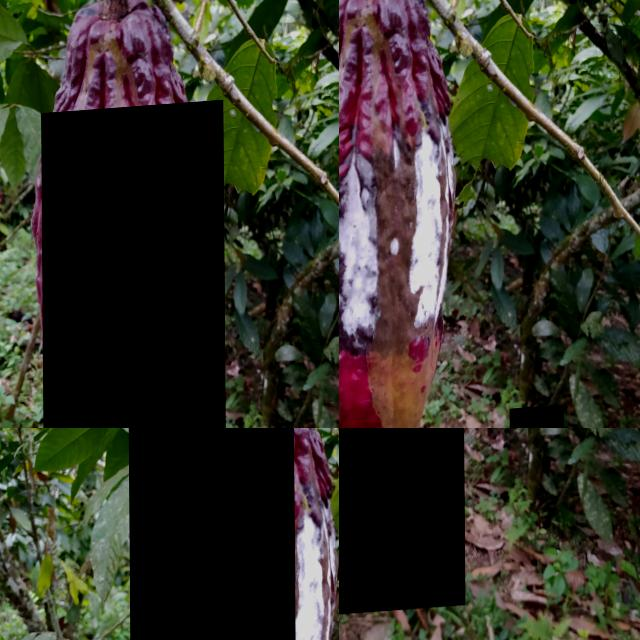Monilia: (339, 428, 464, 619)
Sana: (40, 105, 225, 428), (128, 428, 295, 640), (412, 297, 443, 405), (500, 332, 520, 365), (339, 321, 351, 353), (467, 254, 482, 275), (352, 395, 371, 407), (339, 287, 343, 306)
